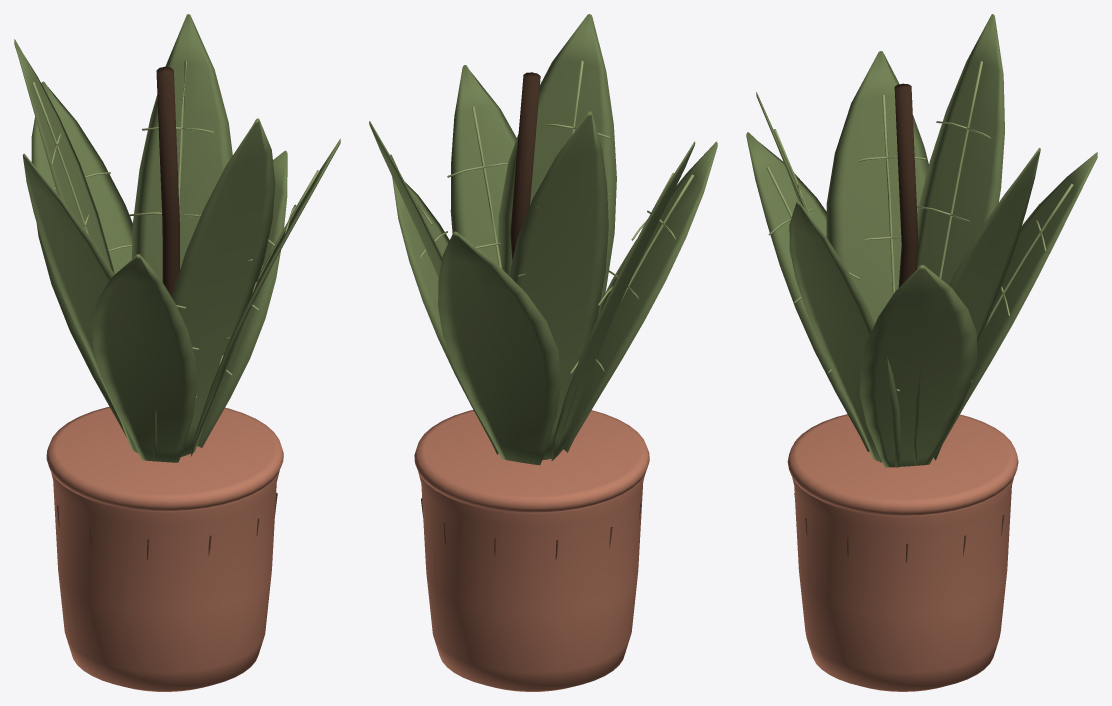
Rendered from plant_large.fbx.
The picture shows the model from 3 angles, left to right: view 1: azimuth 30°, elevation 25°; view 2: azimuth 150°, elevation 25°; view 3: azimuth 270°, elevation 25°; orthographic projection. The views are drawn at different scales.
Visible parts, largest first — view 1: plant_large; view 2: plant_large; view 3: plant_large.
Boxes of the visible parts, left/top/right/bottom form: plant_large: left=14, top=14, right=340, bottom=691; plant_large: left=369, top=14, right=717, bottom=691; plant_large: left=746, top=14, right=1097, bottom=691.
Size of the model in its own units: 0.58 by 1.2 by 0.64.
